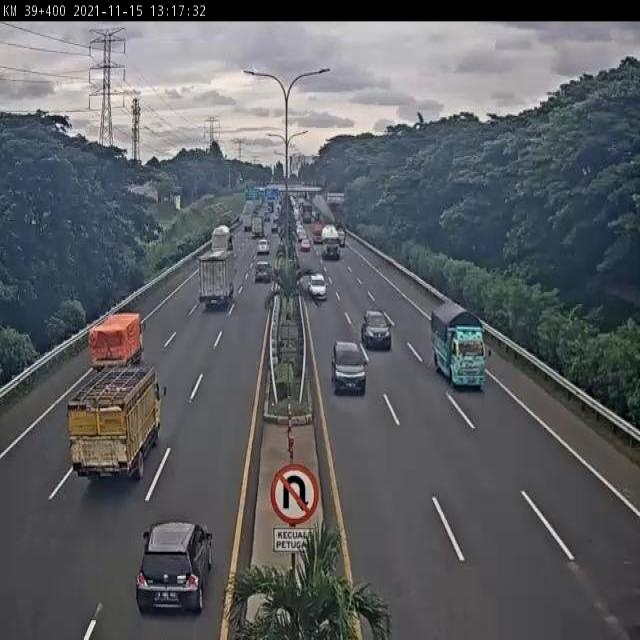Car: (136, 518, 214, 618), (331, 340, 368, 396), (361, 309, 392, 352), (308, 274, 328, 302), (254, 262, 273, 283), (256, 240, 270, 254), (300, 239, 312, 253)
Truck: (66, 366, 168, 480), (432, 302, 492, 392), (90, 312, 146, 374), (199, 248, 233, 312), (321, 225, 340, 261), (212, 224, 233, 250), (251, 216, 264, 239)
